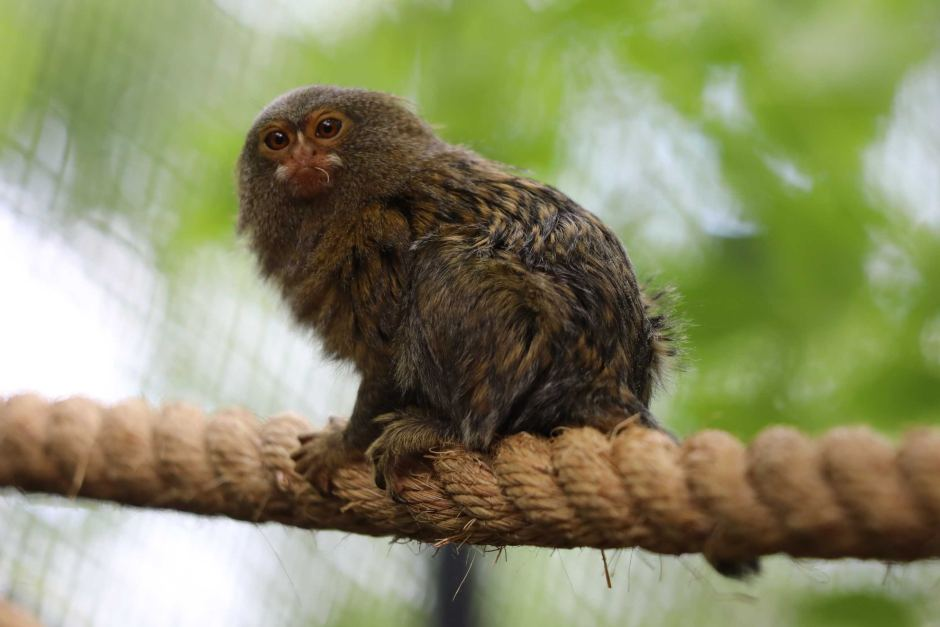PygmyMarmoset: (208, 82, 685, 448)
